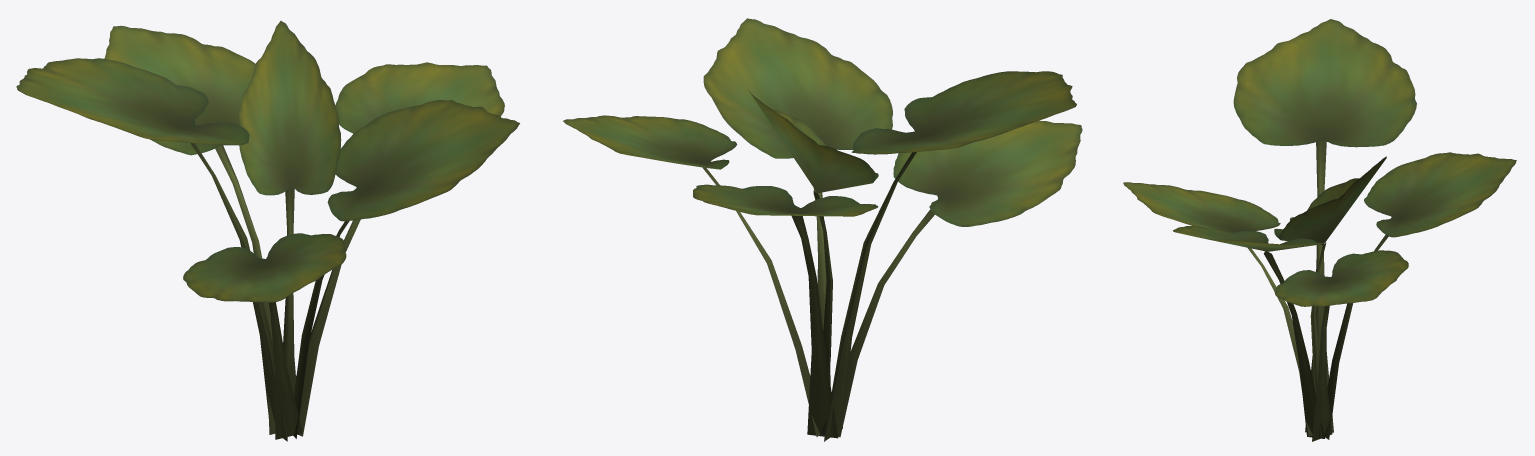
Rendered from Plant_03.fbx.
3 renders of one model, left to right at view 1: azimuth 30°, elevation 25°; view 2: azimuth 150°, elevation 25°; view 3: azimuth 270°, elevation 25°, orthographic. The views are drawn at different scales.
Parts seen in each view (by area): view 1: Plant_03; view 2: Plant_03; view 3: Plant_03.
Boxes of the visible parts, x1=… form: Plant_03: x1=16, y1=21, x2=519, y2=441; Plant_03: x1=563, y1=18, x2=1082, y2=441; Plant_03: x1=1123, y1=19, x2=1516, y2=441.
Bounding box in the file's own units: 192 × 147 × 169.
1 material, 1 textured.
